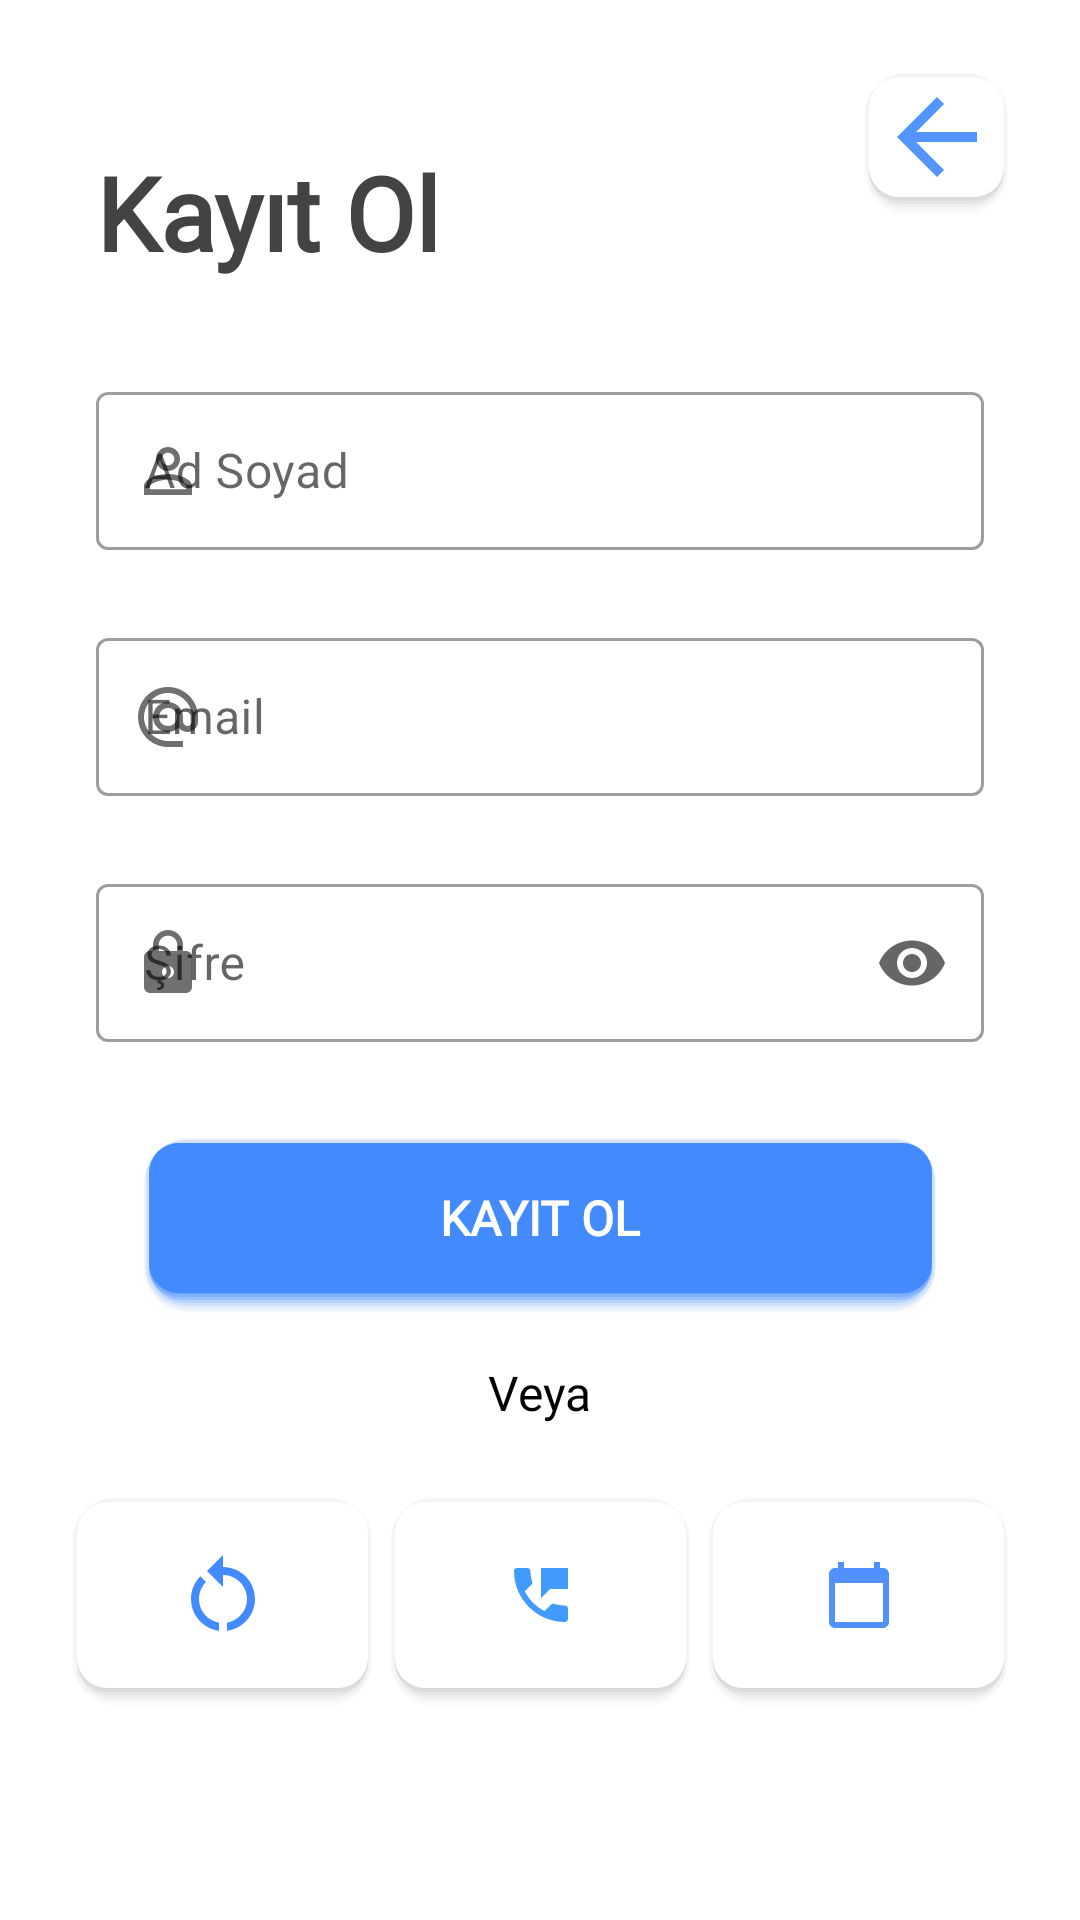

Locate icon controls on the screen. Image size 1080px×1920px, boxes as (x1,y1,x2,y2).
back: (869,97,1004,204)
calendar today: (713,1562,1004,1692)
perm phone msg: (395,1568,686,1692)
restart: (77,1555,368,1692)
